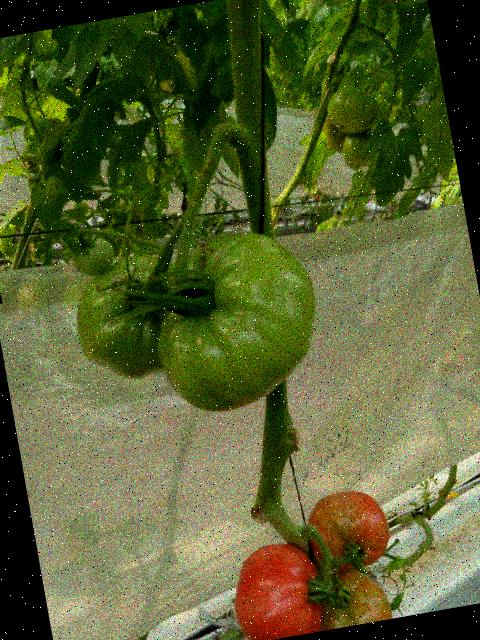b_fully_ripened: (224, 536, 327, 640)
b_green: (139, 220, 331, 420), (66, 248, 196, 389), (304, 564, 393, 632), (323, 81, 384, 138), (67, 230, 117, 279), (339, 130, 378, 170), (321, 111, 351, 155)
b_half_ripened: (302, 483, 396, 578)
